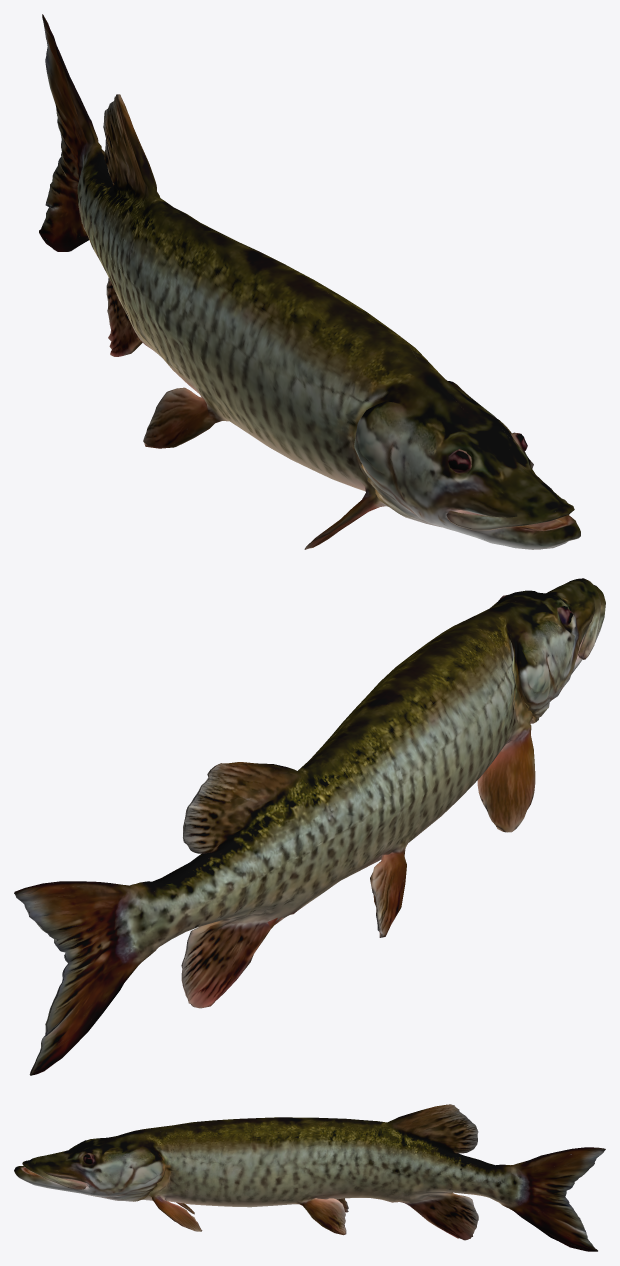
File: fish-muskie.glb
3 renders of one model, top to bottom at view 1: azimuth 30°, elevation 25°; view 2: azimuth 150°, elevation 25°; view 3: azimuth 270°, elevation 25°, orthographic. The views are drawn at different scales.
Parts seen in each view (by area): view 1: geometry_0; view 2: geometry_0; view 3: geometry_0.
Part boxes in pixels (x1,y1,x2,y2): geometry_0: (39,14,580,549); geometry_0: (14,578,605,1075); geometry_0: (14,1104,605,1251).
Bounding box in the file's own units: 0.1479 × 0.2383 × 0.9556.
1 material, 1 textured.
